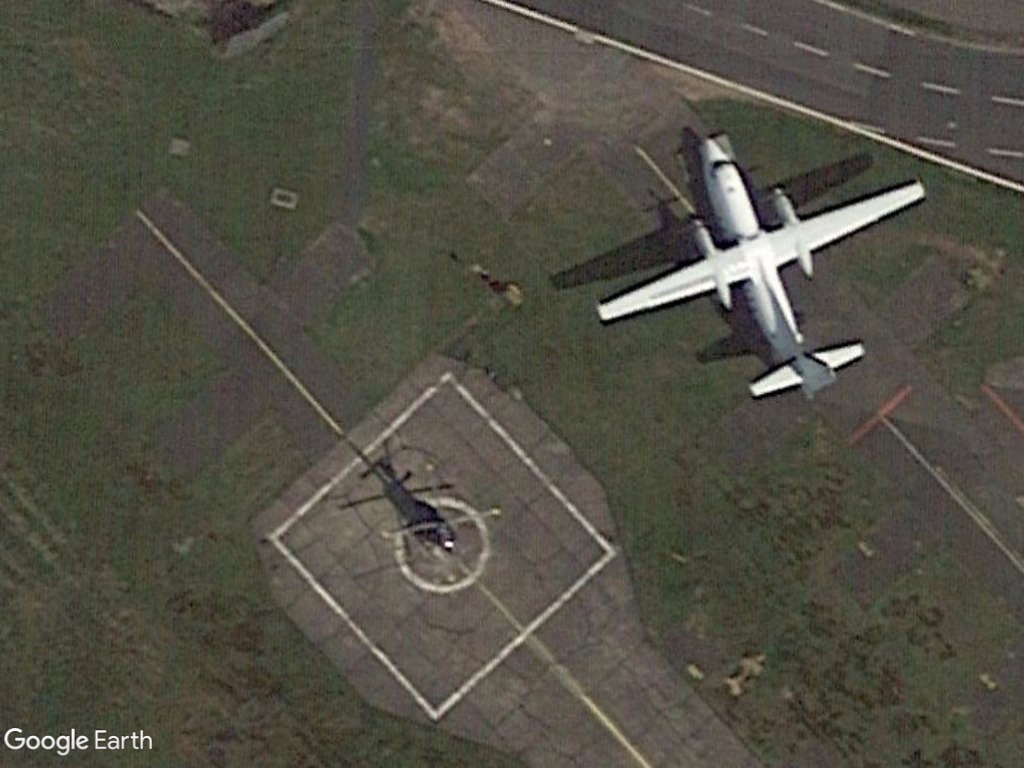helicopter: (341, 436, 521, 600)
propeller: (586, 121, 931, 419)
